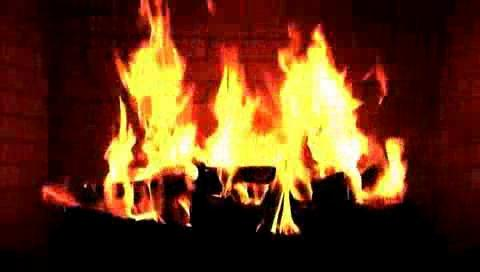fire: (105, 0, 413, 226)
